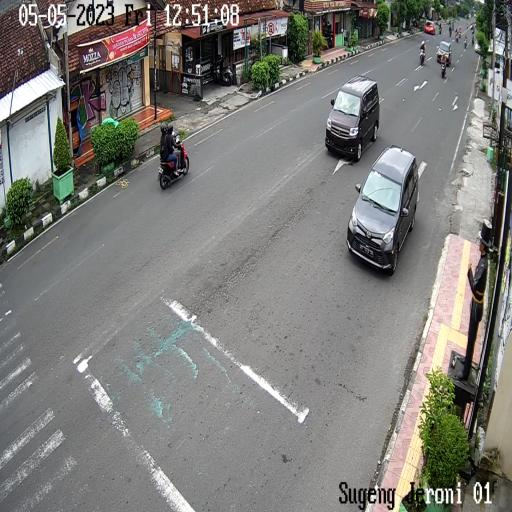mobil: (350, 145, 419, 278), (325, 76, 378, 159)
motor: (159, 134, 190, 190)
